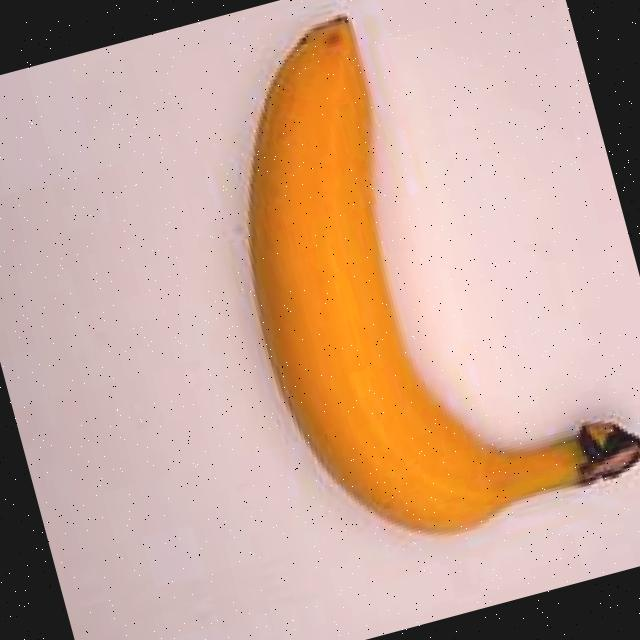Ripe: (149, 0, 640, 594)
